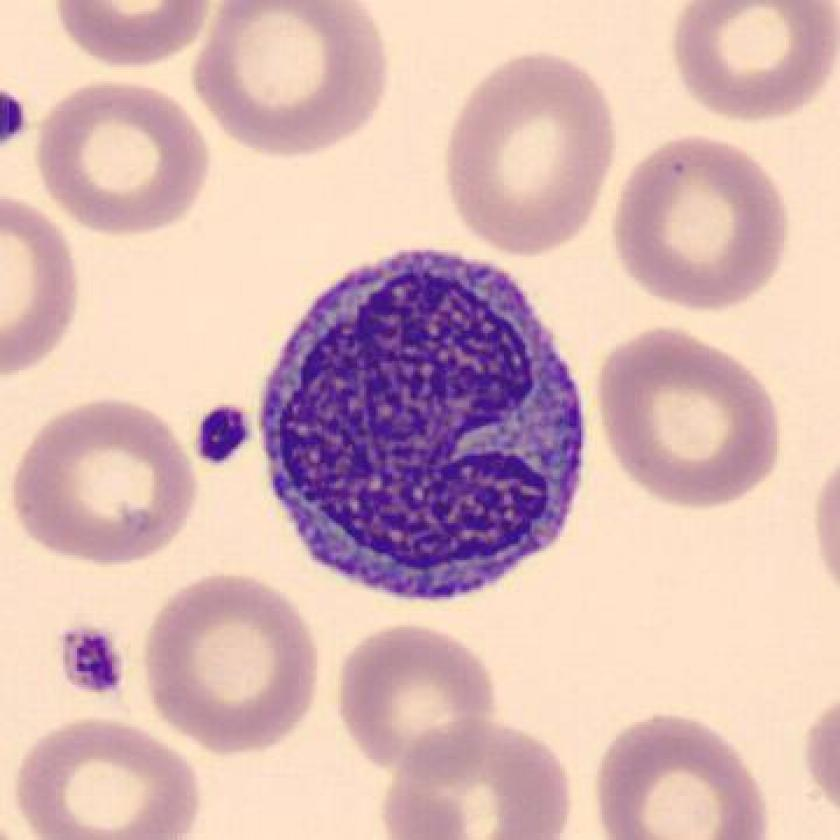monocyte: (239, 233, 608, 622)
